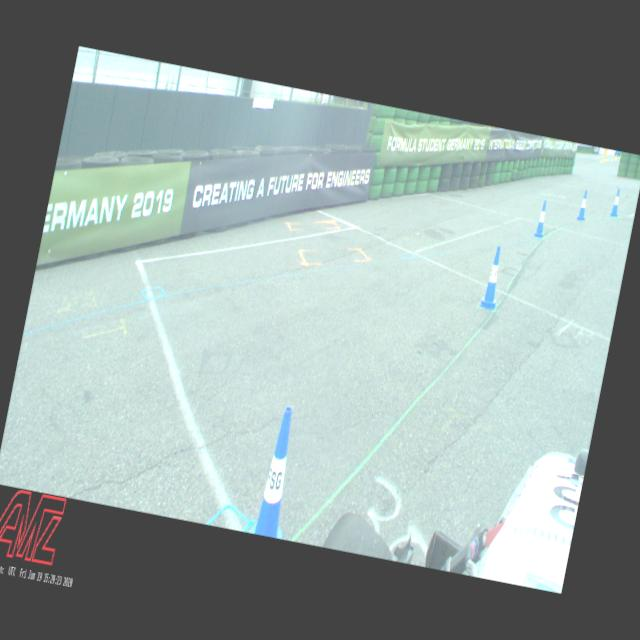blue_cone: (249, 403, 308, 539), (478, 244, 506, 310), (534, 200, 550, 239), (576, 188, 590, 222), (610, 188, 623, 217)
yellow_cone: (600, 154, 603, 162)
